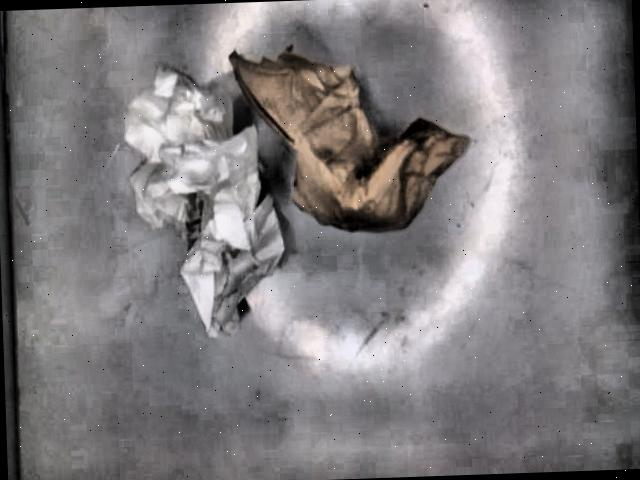Paper: (122, 65, 289, 340), (227, 46, 469, 234)
